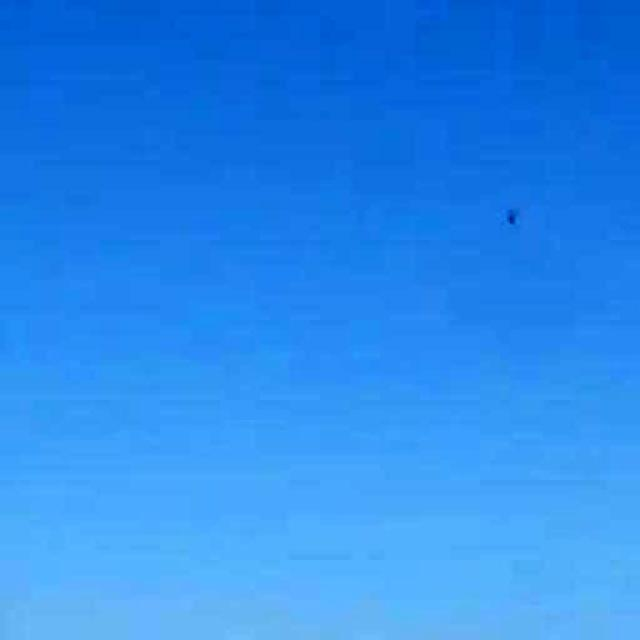drone: (481, 181, 542, 252)
